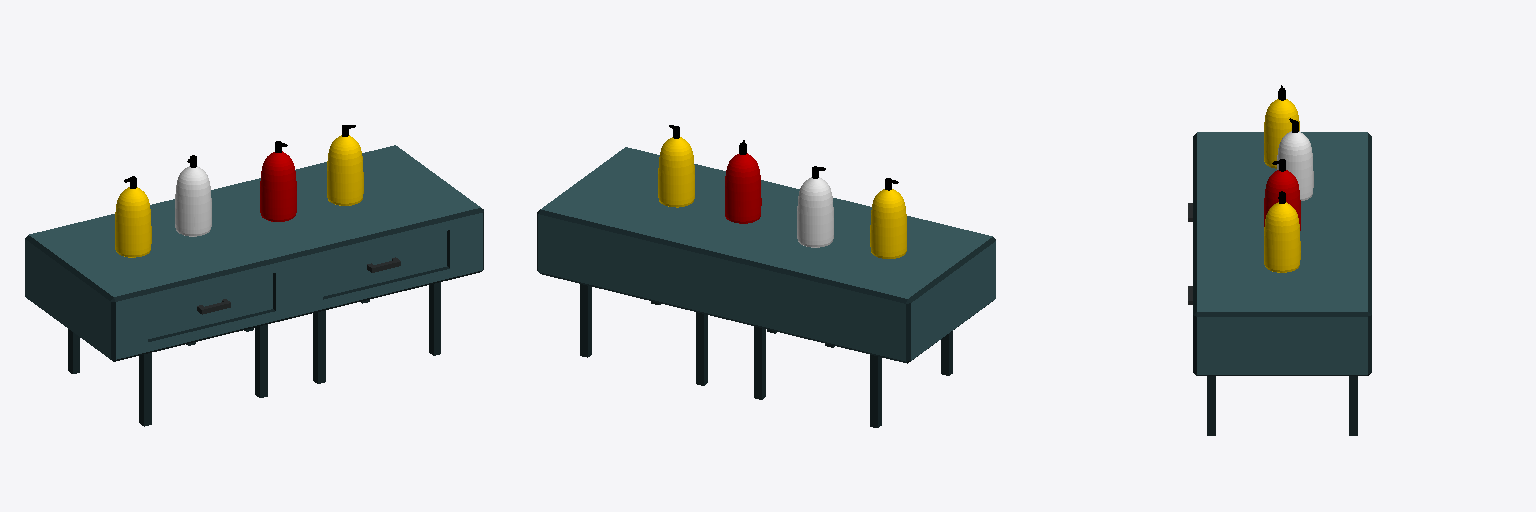
The picture shows the model from 3 angles: view 1: azimuth 30°, elevation 25°; view 2: azimuth 150°, elevation 25°; view 3: azimuth 270°, elevation 25°; orthographic projection.
Parts seen in each view (by area): view 1: Cube; view 2: Cube; view 3: Cube.
Boxes of the visible parts, <box> form: Cube: <box>25,125,483,426</box>; Cube: <box>537,125,995,427</box>; Cube: <box>1188,85,1371,435</box>.
Size of the model in its own units: 0.968 by 0.5321 by 0.411.
Materials: 1 (1 with a texture image).